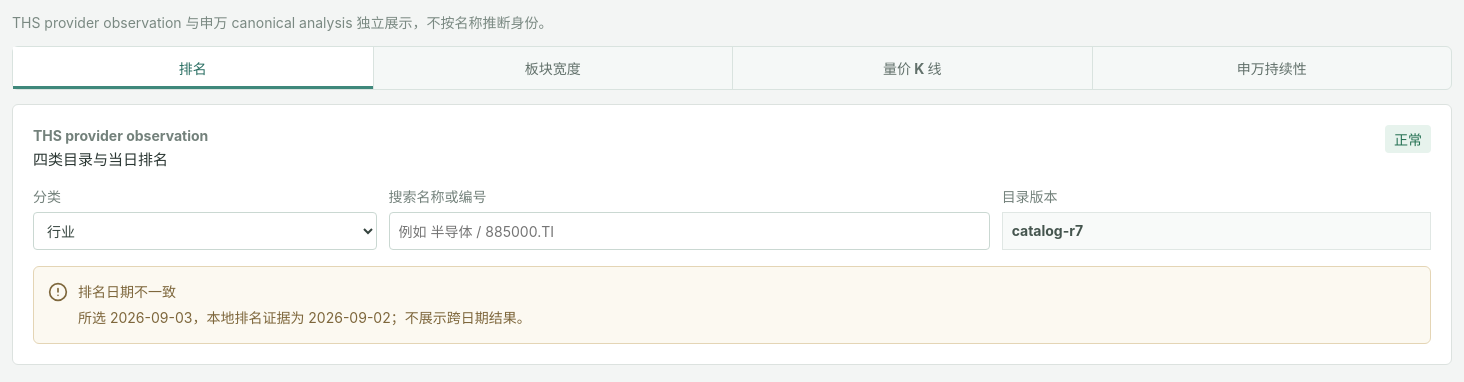
Test: Document05SectorsPage › does not display cross-date THS or Shenwan evidence
The image size is (1464, 382).
Click the tab "板块宽度" at (552, 68), box [372,47,732,89]
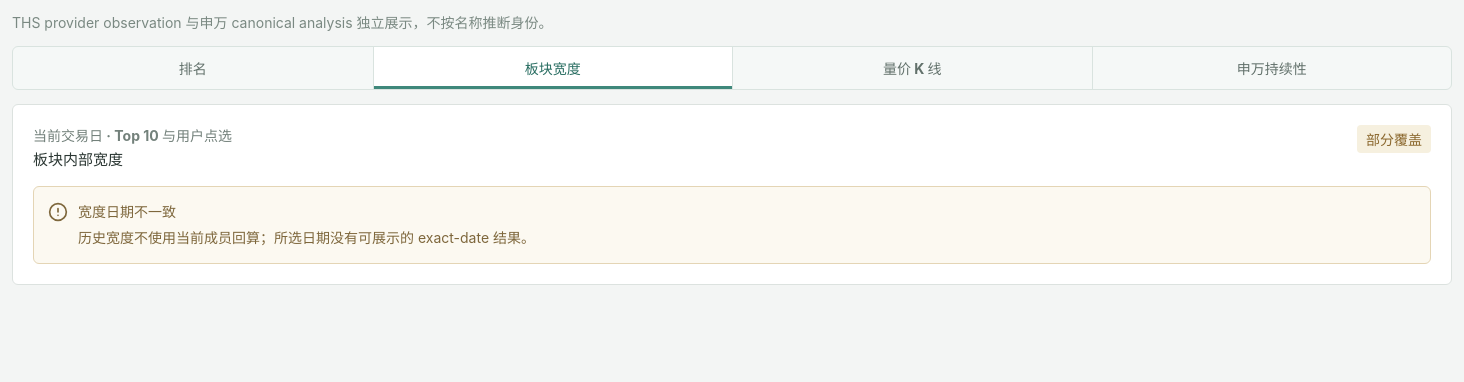
Check: the text "宽度日期不一致" is shown, box [78,203,176,220]
Click the tab "申万持续性" at (1271, 68), box [1092,47,1451,89]
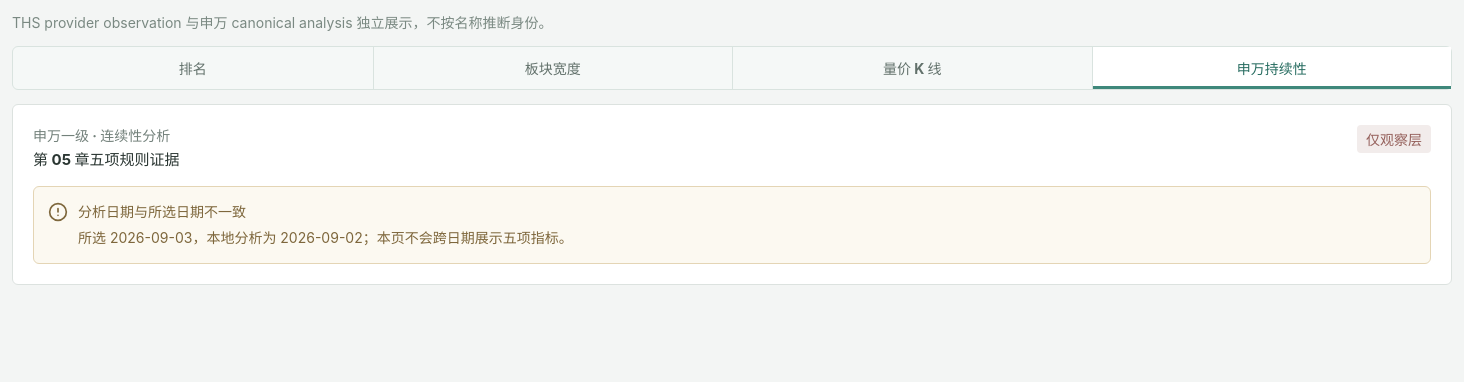
Check: the text "分析日期与所选日期不一致" is shown, box [78,203,246,220]
